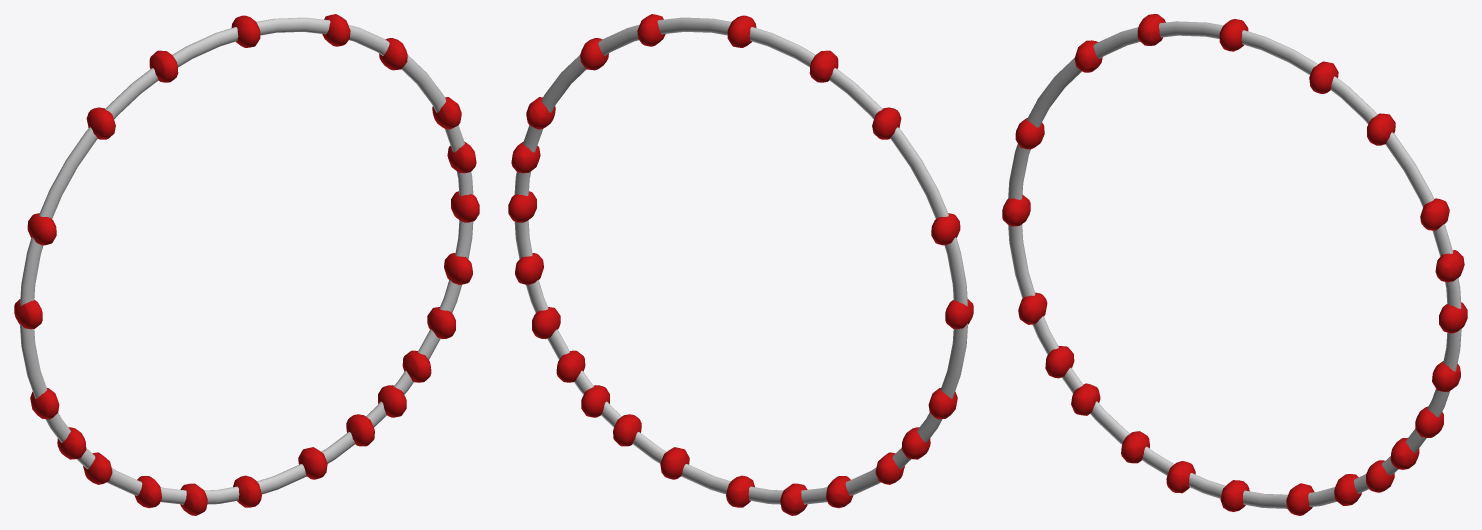
The picture shows the model from 3 angles, left to right: view 1: azimuth 30°, elevation 25°; view 2: azimuth 150°, elevation 25°; view 3: azimuth 330°, elevation 25°; orthographic projection.
Parts seen in each view (by area): view 1: Electron_Mball, Ring_Torus; view 2: Electron_Mball, Ring_Torus; view 3: Electron_Mball, Ring_Torus.
Boxes of the visible parts, left/top/right/bottom form: Electron_Mball: left=14, top=14, right=479, bottom=515; Ring_Torus: left=20, top=17, right=473, bottom=504; Electron_Mball: left=508, top=14, right=973, bottom=515; Ring_Torus: left=514, top=17, right=967, bottom=504; Electron_Mball: left=1002, top=14, right=1467, bottom=515; Ring_Torus: left=1008, top=21, right=1461, bottom=508.
Size of the model in its own units: 2.91 by 2.96 by 0.2136.
